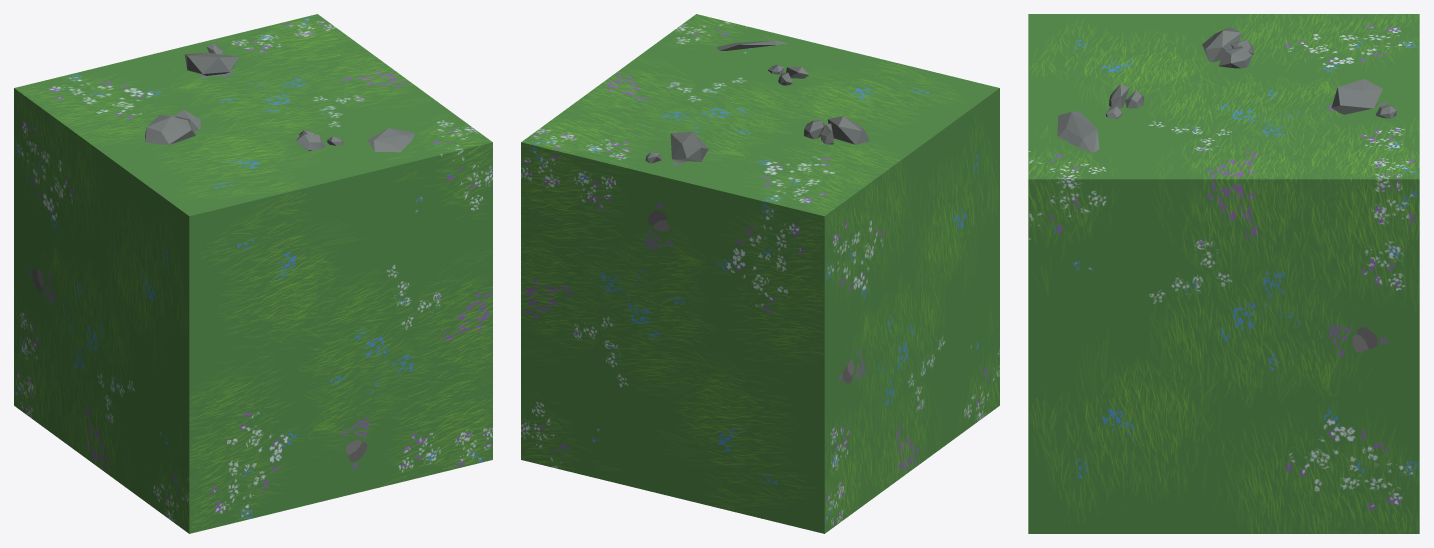
The model's file is TileTravnik.fbx.
3 views of the same model, side by side, from view 1: azimuth 30°, elevation 25°; view 2: azimuth 150°, elevation 25°; view 3: azimuth 270°, elevation 25° (orthographic). The views are drawn at different scales.
Visible parts, largest first — view 1: Cube; view 2: Cube; view 3: Cube.
Boxes of the visible parts, x1,y1,x2,y2 form: Cube: (14,14,492,533); Cube: (521,14,999,533); Cube: (1028,14,1419,533).
Size of the model in its own units: 200 by 212 by 200.
